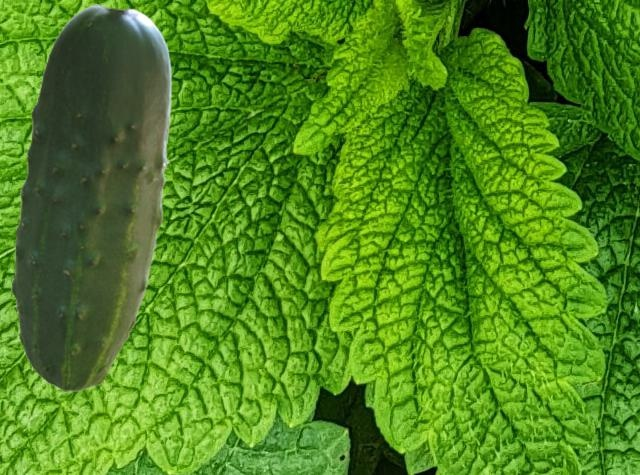cucumber: (11, 4, 171, 391)
